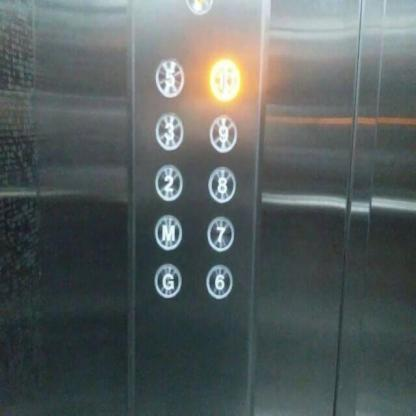10: (207, 55, 242, 99)
2: (154, 162, 183, 200)
3: (155, 110, 184, 149)
5: (154, 56, 184, 98)
6: (204, 262, 232, 298)
7: (206, 215, 235, 250)
8: (208, 164, 236, 202)
9: (208, 112, 237, 152)
G: (154, 263, 182, 297)
M: (153, 211, 182, 249)
